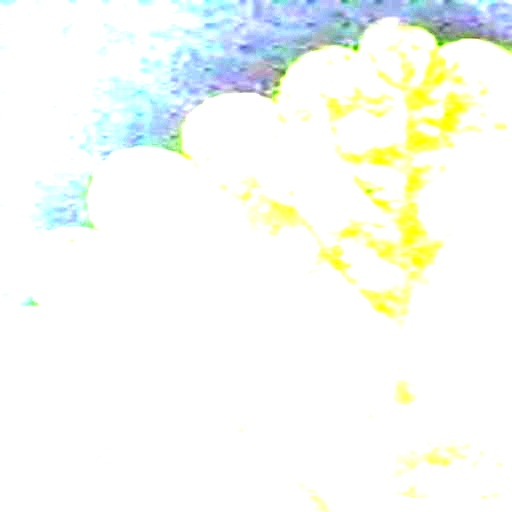Angular Leafspot: (166, 19, 511, 331)
